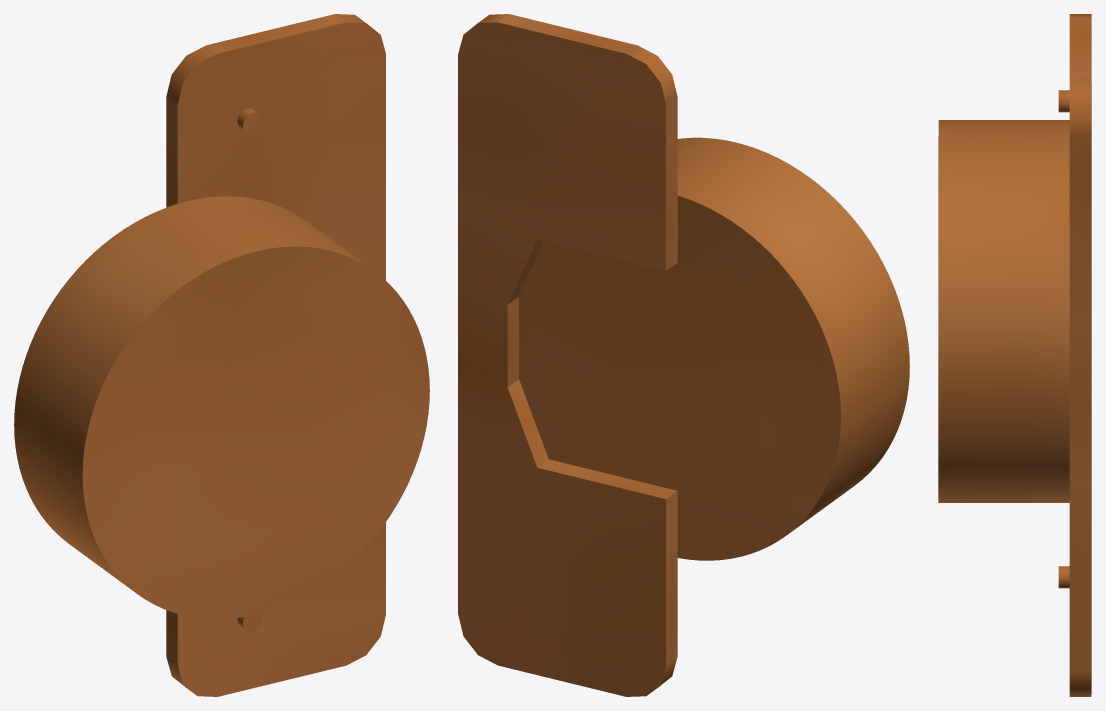
Rendered from petlya_clodis_fasad_1779309089920.glb.
3 renders of one model, left to right at view 1: azimuth 30°, elevation 25°; view 2: azimuth 150°, elevation 25°; view 3: azimuth 270°, elevation 25°, orthographic. The views are drawn at different scales.
Parts seen in each view (by area): view 1: Петля Clodis фасад; view 2: Петля Clodis фасад; view 3: Петля Clodis фасад.
Boxes of the visible parts, x1,y1,x2,y2 form: Петля Clodis фасад: [14, 14, 429, 696]; Петля Clodis фасад: [458, 14, 909, 696]; Петля Clodis фасад: [938, 14, 1091, 696].
Size of the model in its own units: 37.52 by 62 by 14.02.
Materials: 2 (2 with a texture image).
